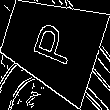P_W: (25, 18, 78, 70)
